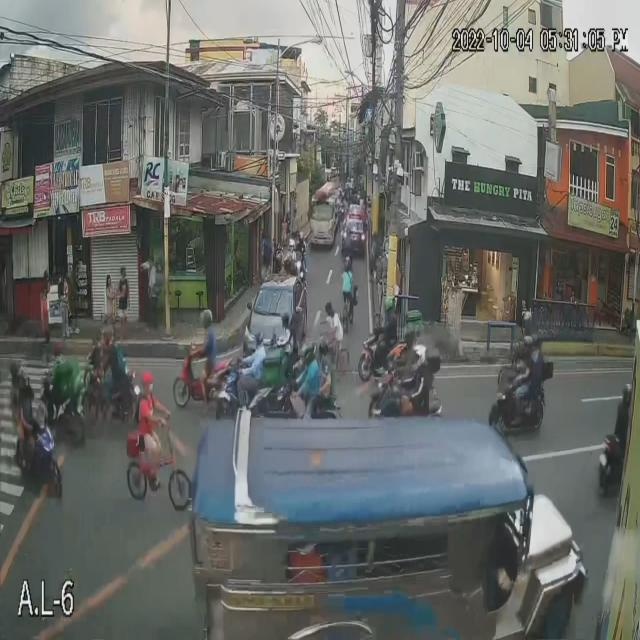Full-Faced: (297, 341, 315, 369), (403, 321, 419, 351), (10, 356, 25, 382), (316, 331, 329, 361), (250, 327, 266, 351), (515, 341, 528, 367), (619, 380, 632, 405), (100, 328, 117, 346), (519, 312, 533, 333), (200, 310, 214, 330), (288, 238, 300, 260), (296, 227, 306, 250), (282, 307, 292, 330), (53, 340, 64, 359), (384, 294, 394, 314)
Half-Faced: (139, 370, 156, 394), (342, 247, 354, 276)
Not-Wearing-Helmet: (321, 298, 335, 317)
